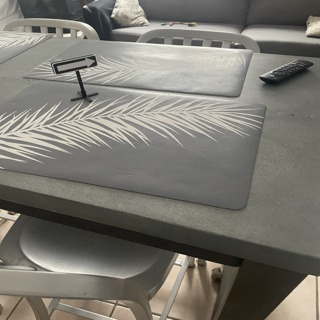sign_oneway_right: (51, 54, 94, 75)
